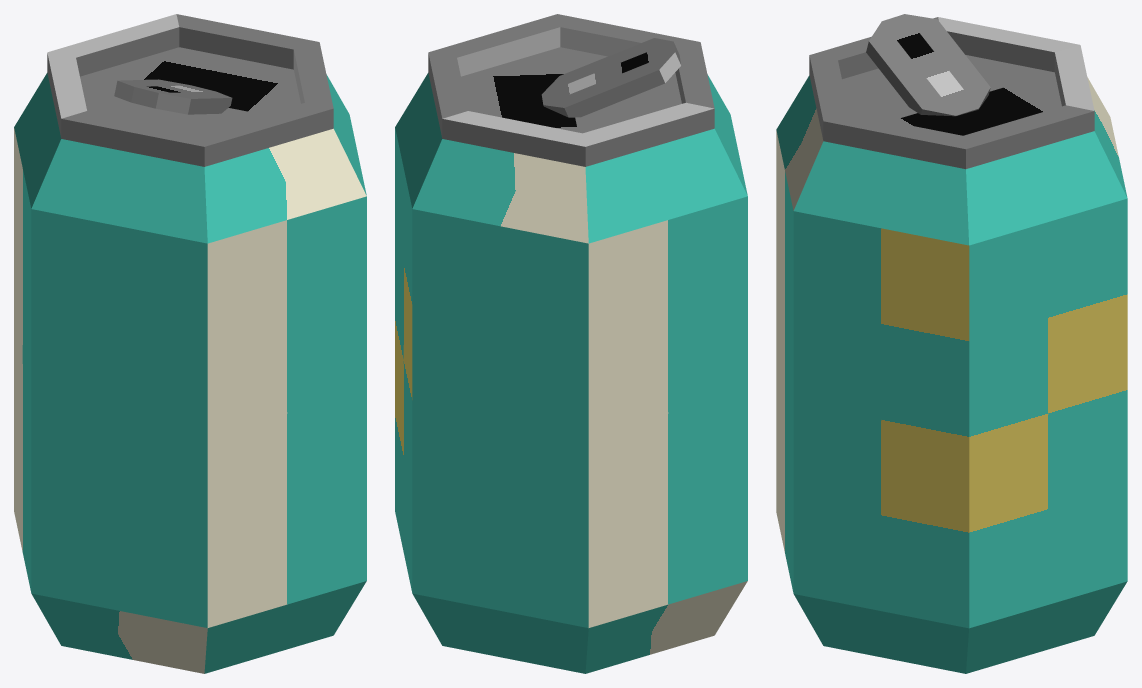
The model's file is soda.fbx.
The picture shows the model from 3 angles, left to right: view 1: azimuth 30°, elevation 25°; view 2: azimuth 150°, elevation 25°; view 3: azimuth 270°, elevation 25°; orthographic projection.
Visible parts, largest first — view 1: soda; view 2: soda; view 3: soda.
Part boxes in pixels (left/top/right/bottom): soda: left=14, top=14, right=366, bottom=673; soda: left=395, top=14, right=747, bottom=673; soda: left=776, top=14, right=1127, bottom=673.
Size of the model in its own units: 19.14 by 30.39 by 17.43.
